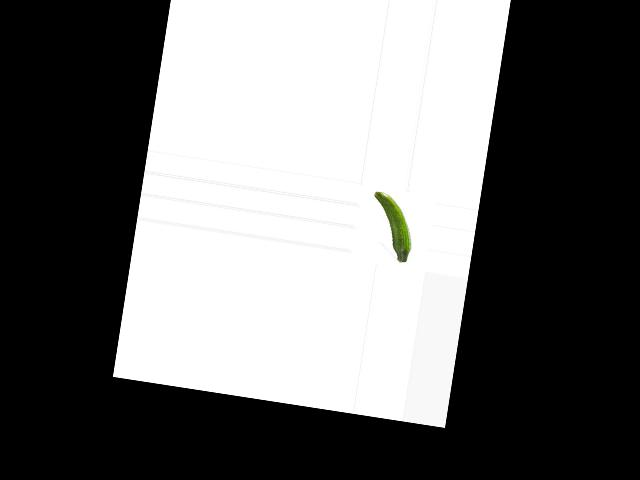cucumber: (364, 191, 418, 264)
